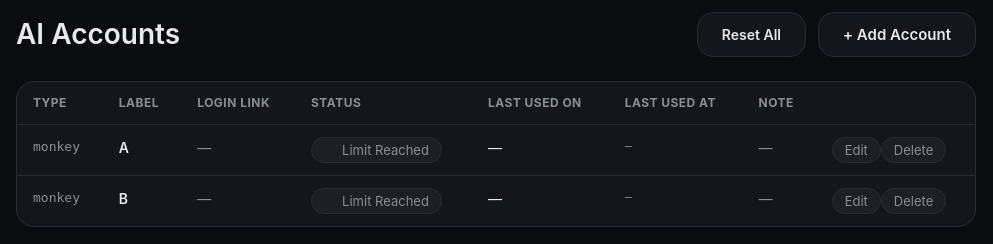
Test: Route /accounts — AccountsList › resets every account to available via the Reset All button
Expected: the text "A" is shown, [103,124,181,176]
Click the button "Reset All".
click(751, 34)  # box [697,12,806,57]
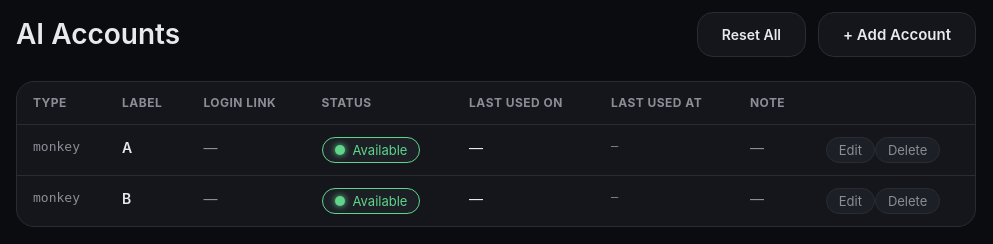
Expected: the button with aria-label "Mark A as limit reached" is shown, [322,137,420,163]
Expected: the button with aria-label "Mark B as limit reached" is shown, [322,188,420,214]
